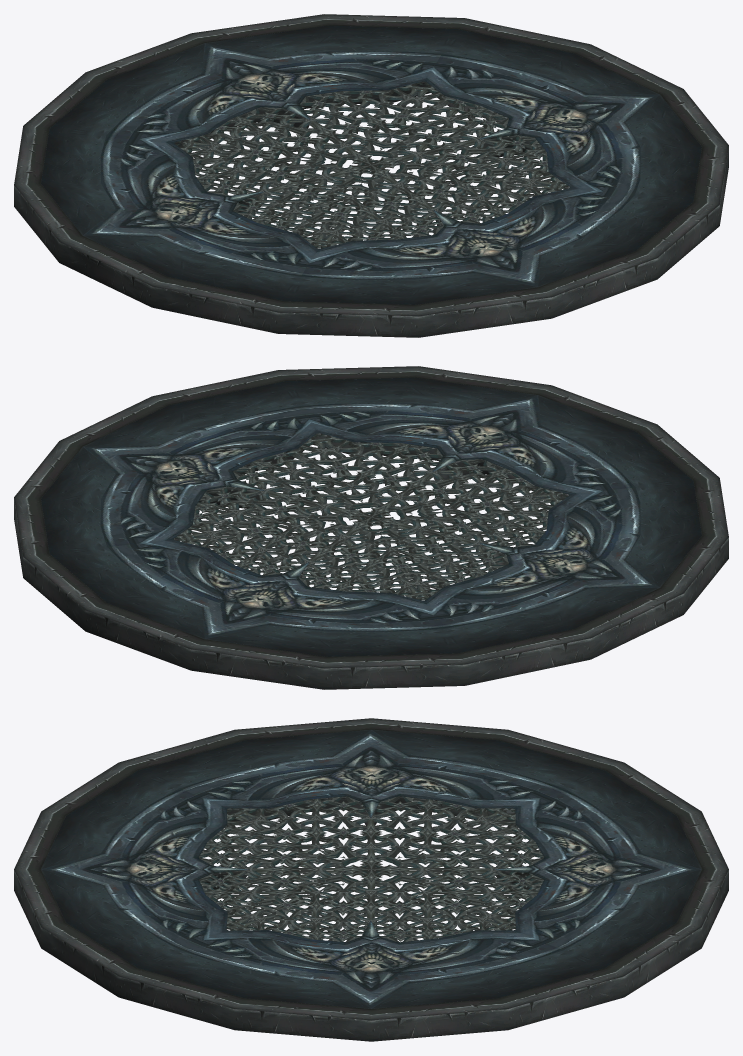
File: Grownd_Circle.fbx
The picture shows the model from 3 angles, top to bottom: view 1: azimuth 30°, elevation 25°; view 2: azimuth 150°, elevation 25°; view 3: azimuth 270°, elevation 25°; orthographic projection.
Parts seen in each view (by area): view 1: icecrown_elevator; view 2: icecrown_elevator; view 3: icecrown_elevator.
Part boxes in pixels (<box>): icecrown_elevator: <box>14,14,728,337</box>; icecrown_elevator: <box>14,366,728,689</box>; icecrown_elevator: <box>14,718,728,1041</box>.
Size of the model in its own units: 1969 by 64.8 by 1969.
